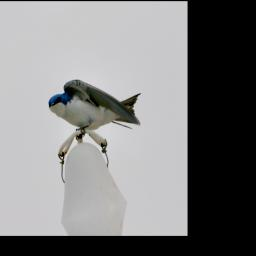Swallow: (45, 60, 148, 155)
